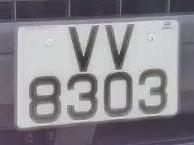0: (99, 68, 138, 122)
3: (135, 63, 173, 121), (62, 70, 102, 124)
8: (24, 67, 66, 129)
V: (63, 20, 104, 75), (100, 20, 141, 75)
